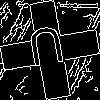U: (25, 25, 69, 76)
